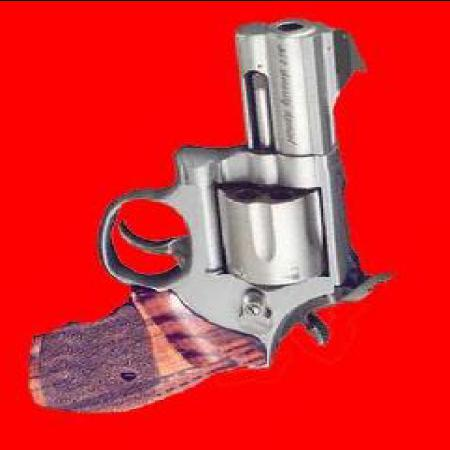Pistol: (26, 19, 368, 417)
